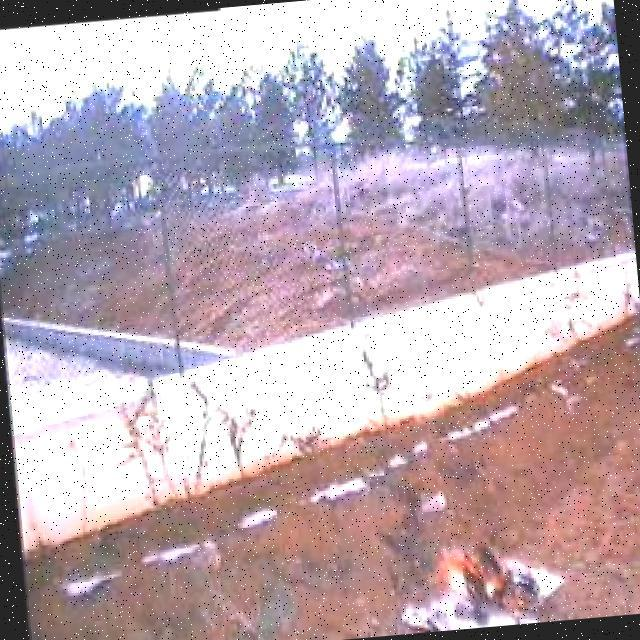Fire: (415, 529, 545, 628)
